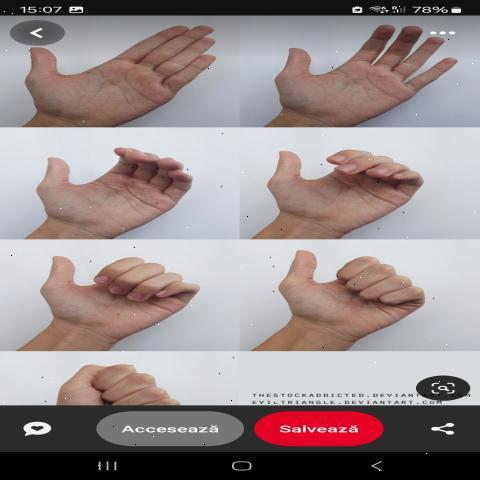Hands: (258, 9, 467, 146), (15, 21, 229, 143), (256, 242, 464, 355), (26, 231, 231, 337), (24, 134, 208, 240), (264, 133, 438, 239)
